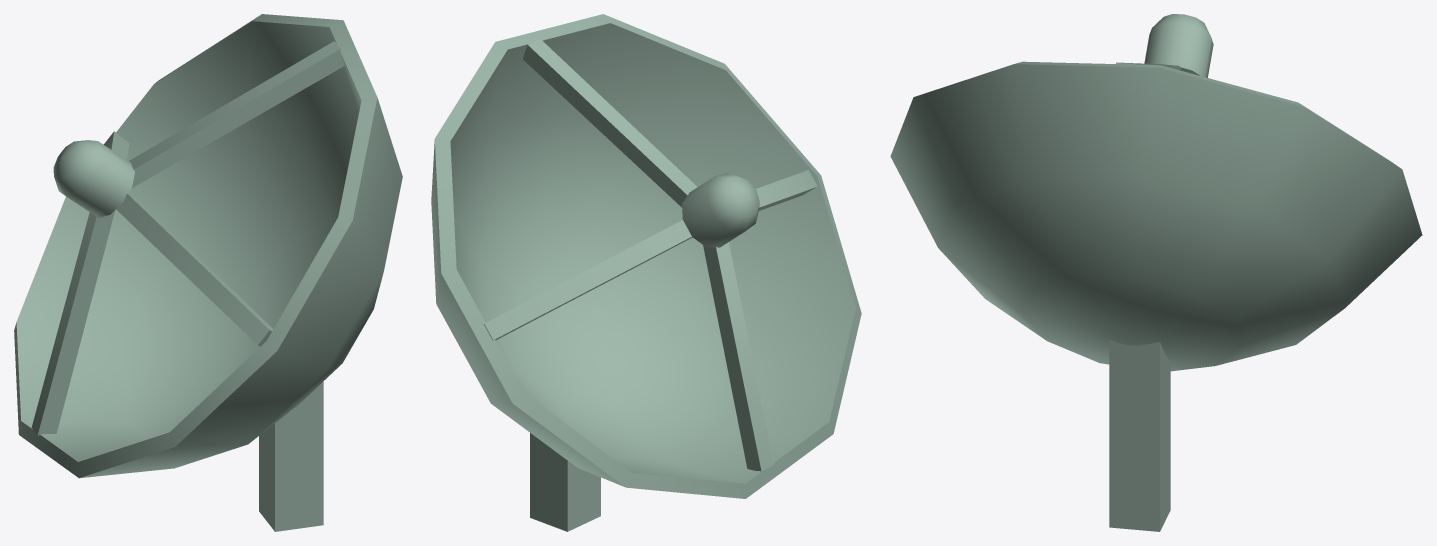
The model's file is roofAsset1.fbx.
3 views of the same model, side by side, from view 1: azimuth 30°, elevation 25°; view 2: azimuth 150°, elevation 25°; view 3: azimuth 270°, elevation 25° (orthographic). The views are drawn at different scales.
Parts seen in each view (by area): view 1: roofAsset1; view 2: roofAsset1; view 3: roofAsset1.
Part boxes in pixels (x1=…): roofAsset1: x1=14, y1=14, x2=402, y2=531; roofAsset1: x1=431, y1=14, x2=861, y2=531; roofAsset1: x1=890, y1=14, x2=1422, y2=531.
Size of the model in its own units: 498 by 685 by 686.
